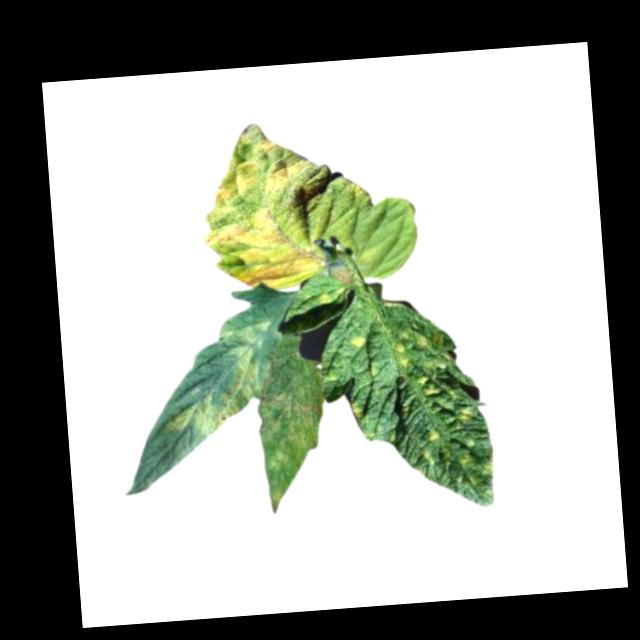Leaf_Mold: (193, 113, 377, 294), (391, 321, 496, 513), (161, 319, 278, 440), (257, 385, 330, 514), (348, 333, 366, 351), (315, 292, 331, 307)
